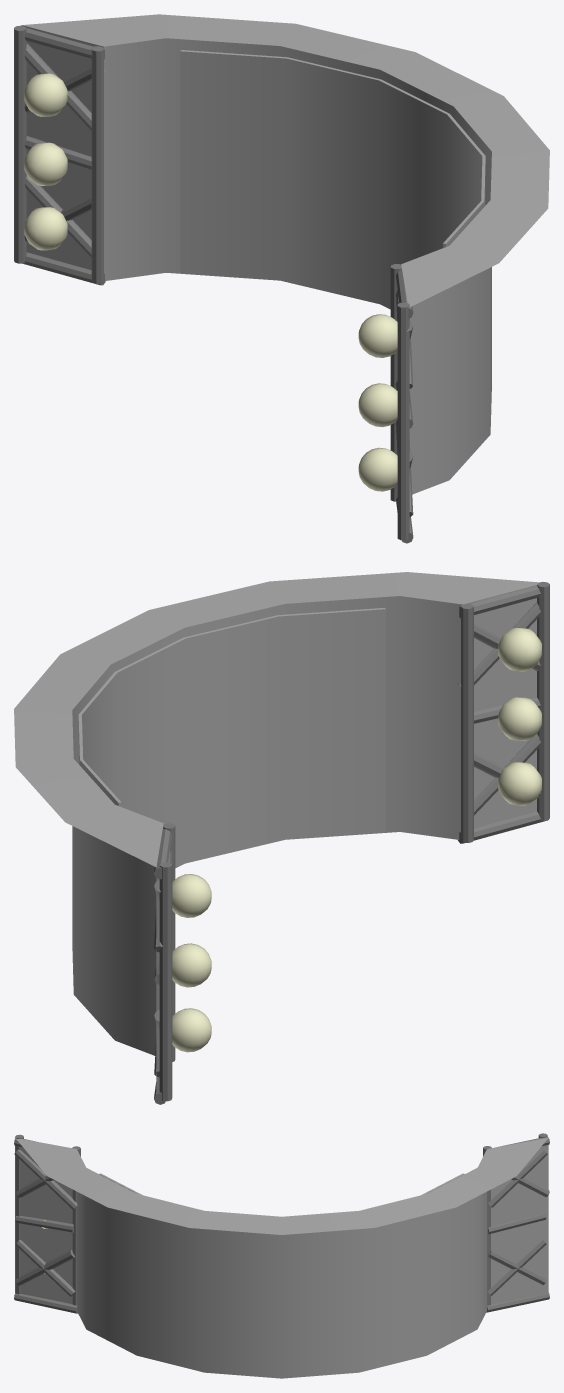
Rendered from GarageBack.fbx.
3 renders of one model, top to bottom at view 1: azimuth 30°, elevation 25°; view 2: azimuth 150°, elevation 25°; view 3: azimuth 270°, elevation 25°, orthographic. The views are drawn at different scales.
Parts seen in each view (by area): view 1: pPipe1, pPipe2, pCylinder10, pCylinder11, pSphere4, pSphere5; view 2: pPipe1, pPipe2, pCylinder11, pCylinder10, pSphere5, pSphere4; view 3: pPipe1, pCylinder11, pCylinder10.
Part boxes in pixels (x1,y1,x2,y2): pPipe1: (21,14,549,494); pPipe2: (180,50,485,307); pCylinder10: (14,25,105,285); pCylinder11: (390,264,413,543); pSphere4: (24,73,67,250); pSphere5: (358,314,397,491); pPipe1: (14,572,539,1093); pPipe2: (78,608,385,866); pCylinder11: (458,582,549,843); pCylinder10: (154,823,175,1104); pSphere5: (498,628,541,805); pSphere4: (172,874,211,1052); pPipe1: (15,1138,548,1378); pCylinder11: (14,1134,80,1313); pCylinder10: (483,1133,549,1312).
Size of the model in its own units: 13.94 by 10.14 by 30.01.
